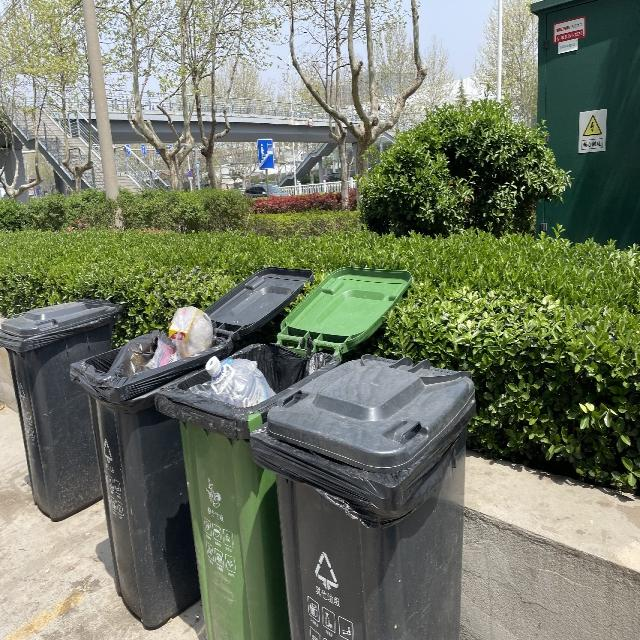garbage_bin: (249, 352, 474, 639), (0, 298, 125, 522)
overflow: (152, 341, 340, 639), (69, 305, 232, 629)
